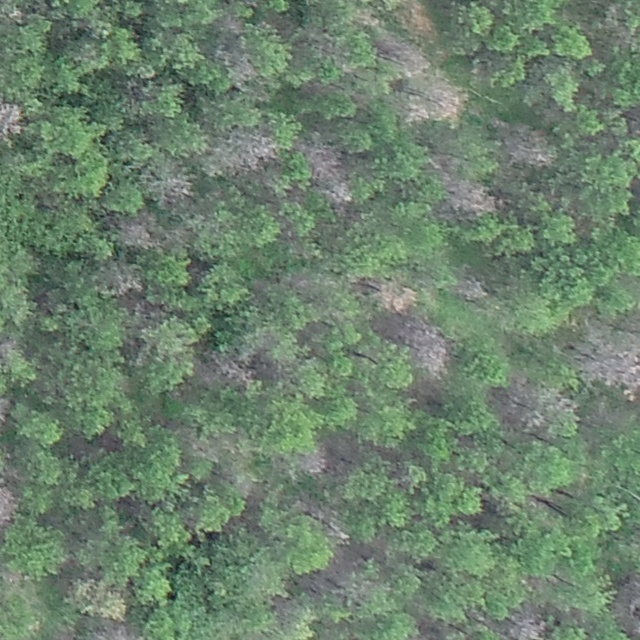unhealthy: (492, 376, 574, 436), (577, 335, 639, 401), (211, 125, 281, 174), (494, 122, 553, 170), (404, 320, 451, 378), (198, 348, 258, 388), (443, 178, 500, 218), (376, 33, 427, 75), (145, 164, 195, 203), (300, 142, 347, 182), (426, 80, 466, 122), (114, 214, 158, 250), (218, 46, 258, 85), (373, 278, 417, 313), (100, 262, 143, 297), (505, 611, 547, 640), (0, 100, 24, 142), (399, 94, 431, 125), (452, 274, 488, 301), (0, 475, 17, 532), (323, 181, 353, 209), (299, 448, 328, 476), (351, 8, 380, 31), (0, 333, 20, 362), (218, 14, 245, 35), (0, 392, 13, 425)
